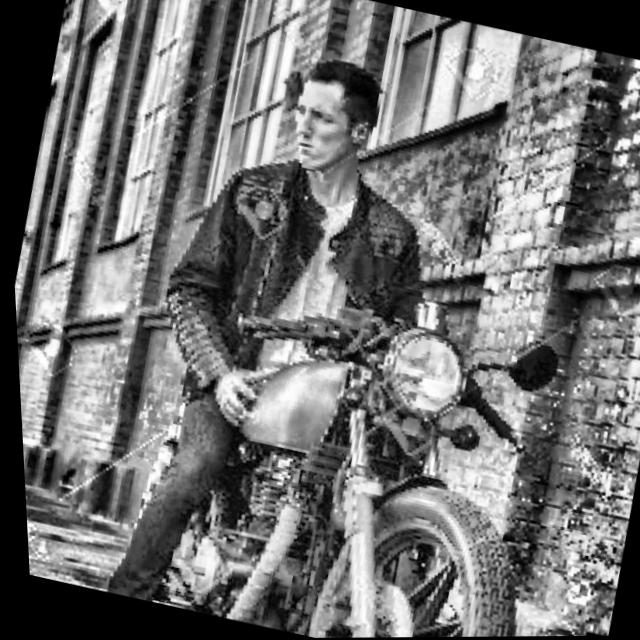motorcycle: (91, 256, 631, 640)
